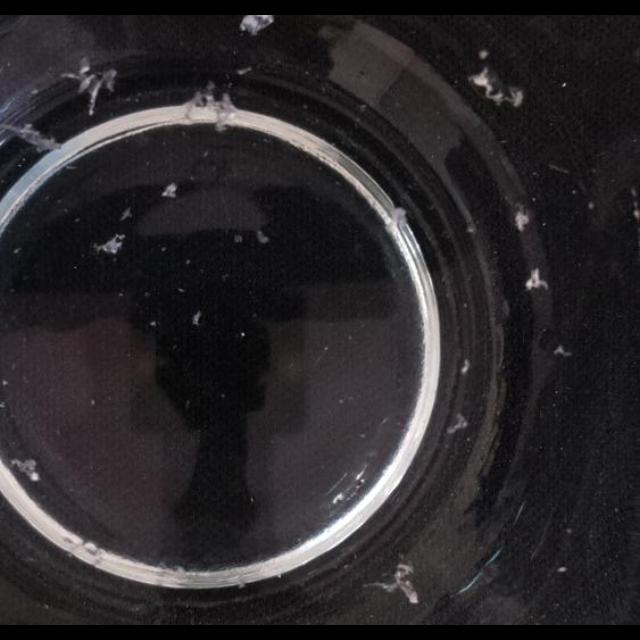Fibre: (61, 56, 118, 116), (185, 84, 239, 130), (471, 63, 524, 109), (367, 562, 419, 604), (9, 458, 41, 484), (238, 14, 274, 36), (94, 234, 126, 256), (526, 268, 548, 292), (389, 206, 409, 230), (514, 209, 530, 231), (554, 344, 572, 358), (162, 184, 178, 198), (256, 230, 270, 244), (190, 310, 202, 326), (120, 207, 132, 221), (459, 359, 469, 375), (235, 66, 251, 76)
microbeads: (447, 414, 469, 434), (332, 490, 346, 504), (234, 234, 243, 243), (556, 566, 566, 574), (12, 246, 22, 254), (90, 398, 96, 406), (338, 398, 344, 406), (2, 378, 8, 386), (588, 202, 594, 210), (150, 319, 156, 326), (240, 332, 246, 338), (324, 346, 330, 352), (562, 82, 568, 88)
